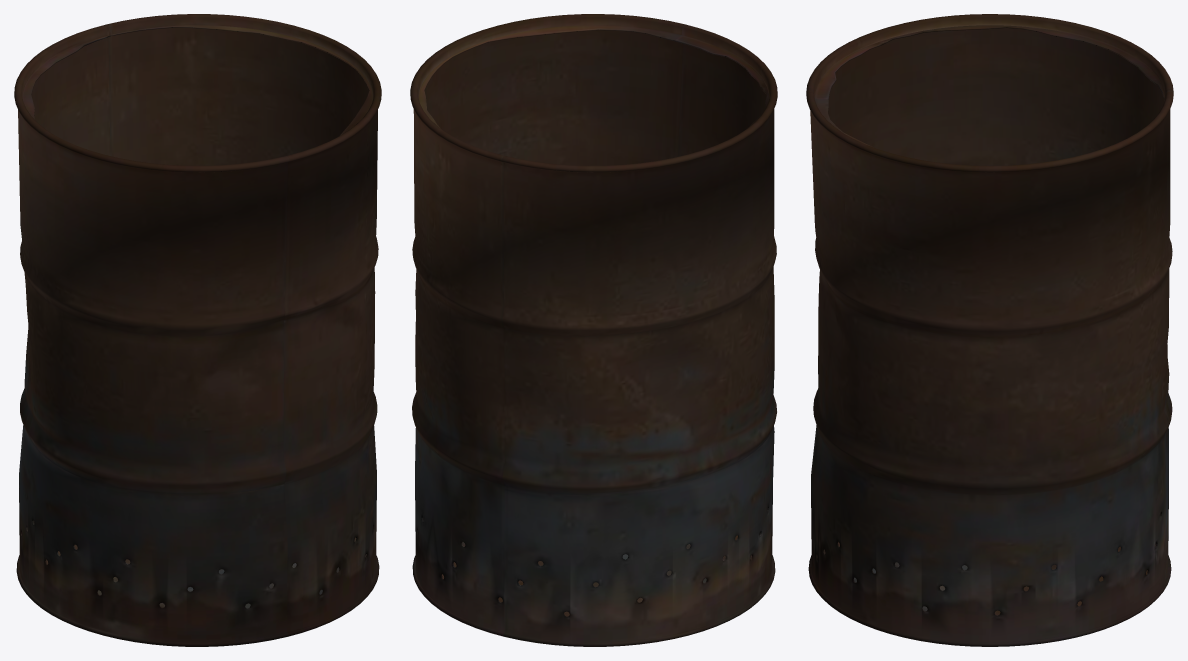
Rendered from barrel_stove.glb.
3 renders of one model, left to right at view 1: azimuth 30°, elevation 25°; view 2: azimuth 150°, elevation 25°; view 3: azimuth 270°, elevation 25°, orthographic.
Parts seen in each view (by area): view 1: barrel_stove; view 2: barrel_stove; view 3: barrel_stove.
Part boxes in pixels (x1,y1,x2,y2): barrel_stove: (14,14,381,646); barrel_stove: (410,14,777,646); barrel_stove: (806,14,1173,646).
Size of the model in its own units: 0.5926 by 0.8556 by 0.5926.
Materials: 1 (1 with a texture image).
